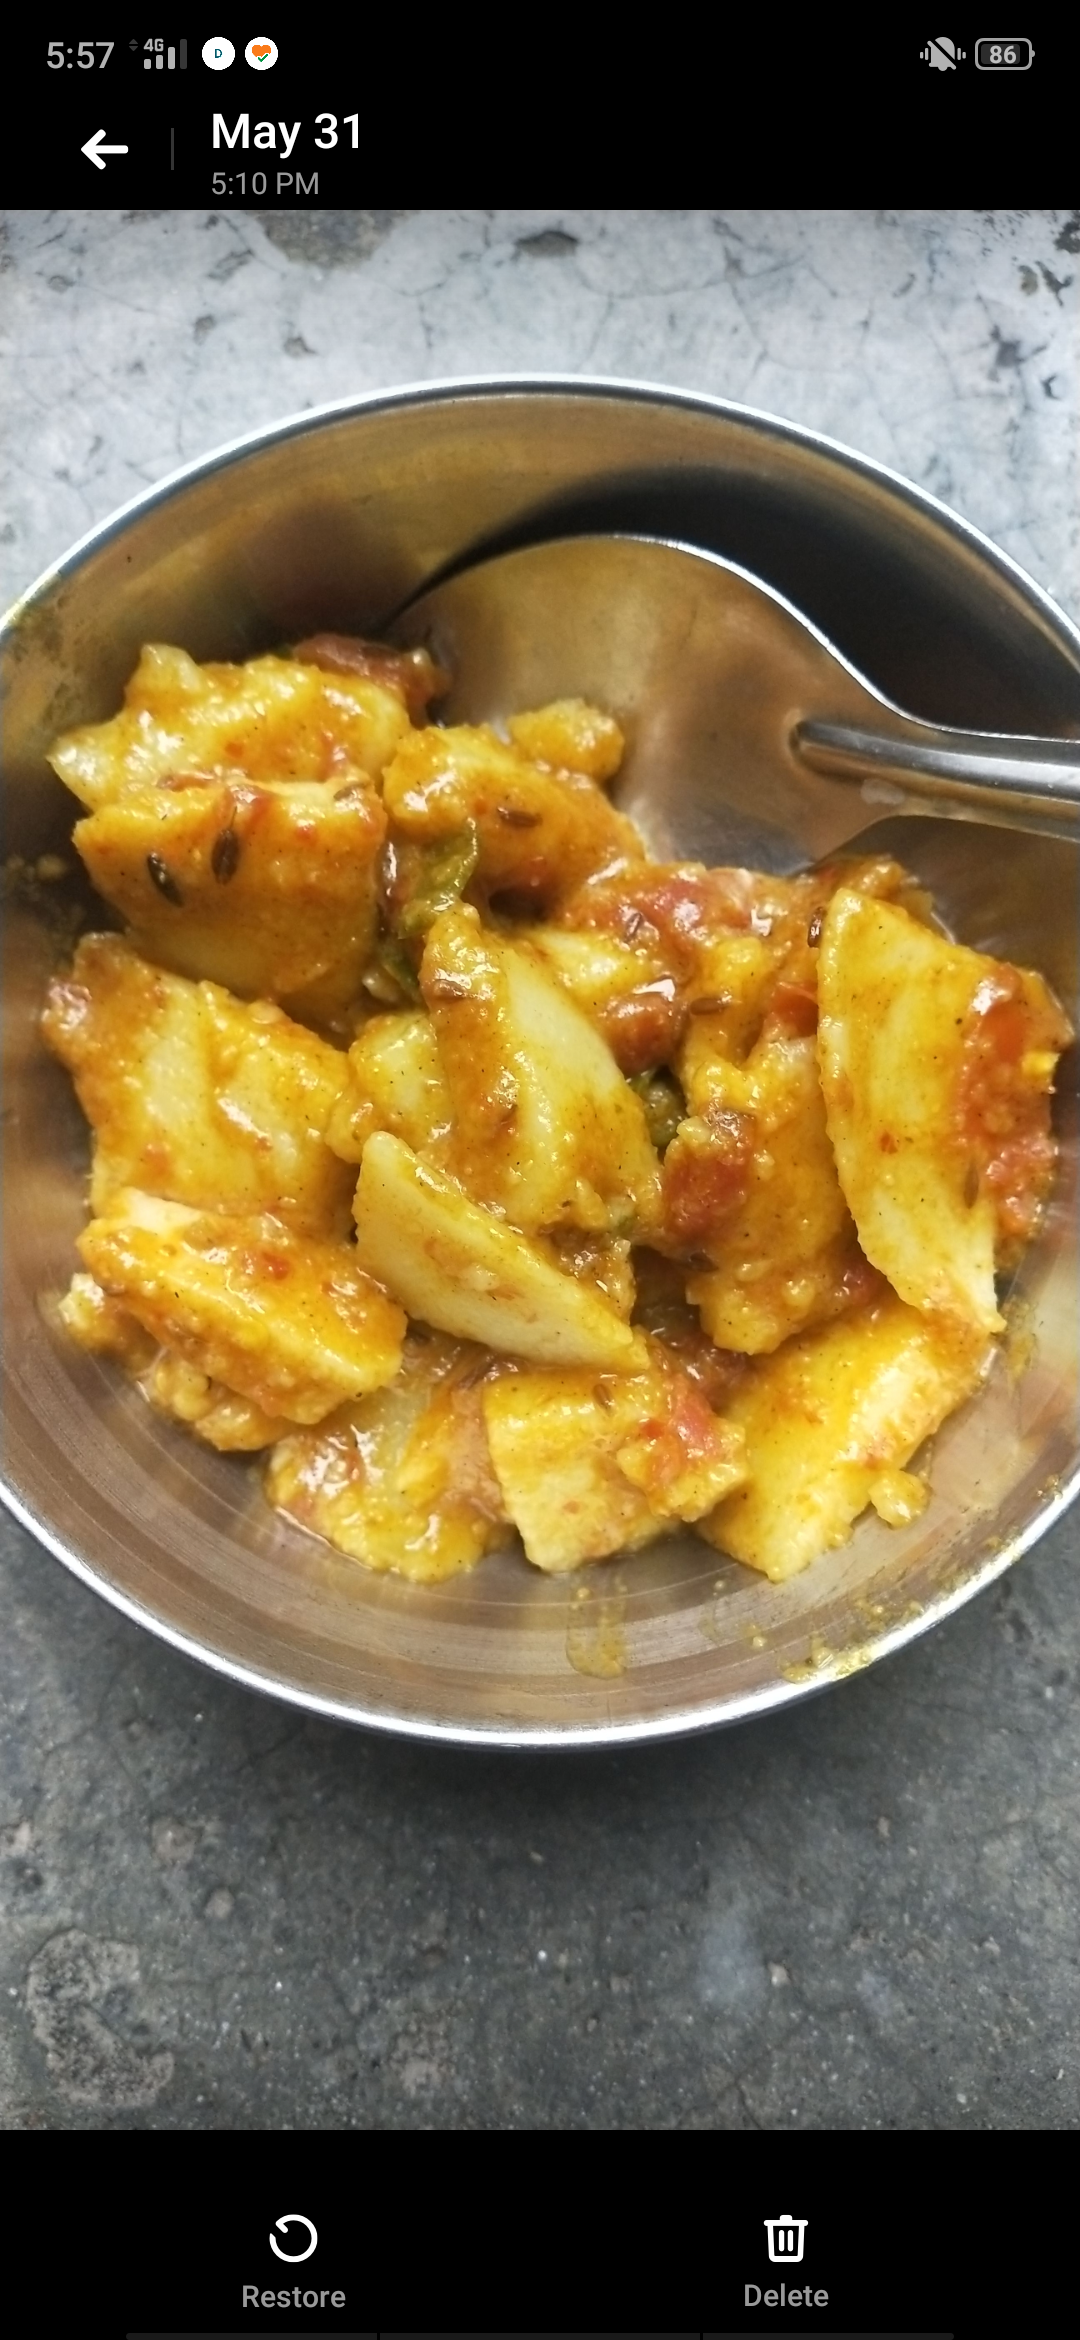food: (37, 607, 1079, 1598)
